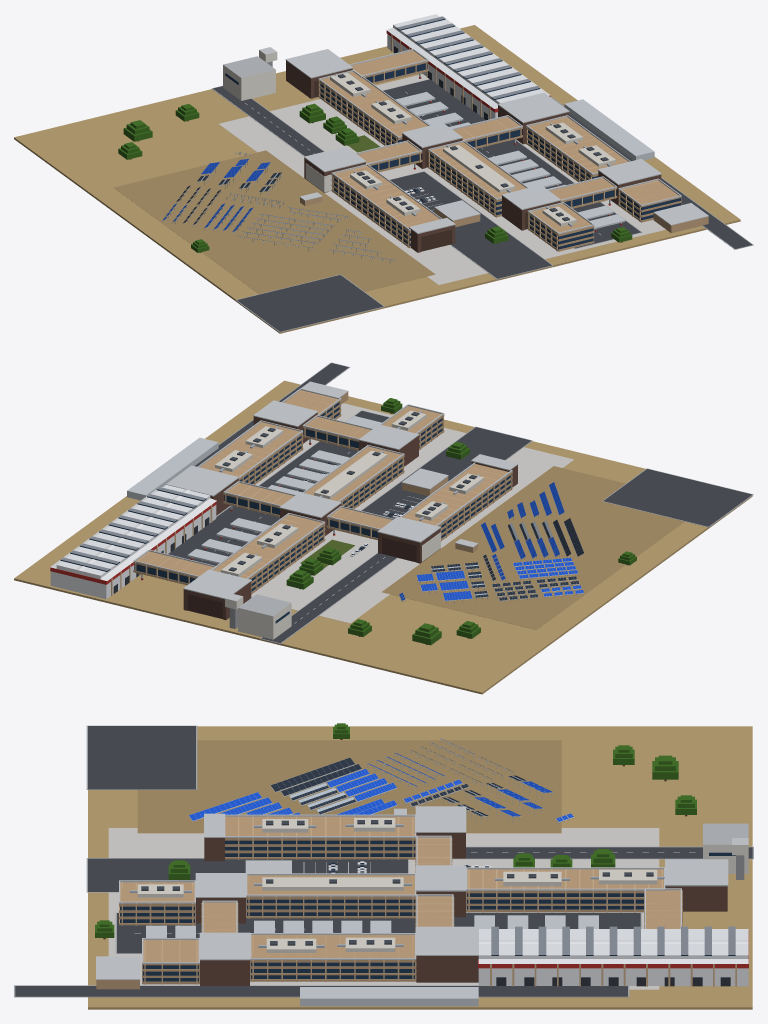
File: factory_campus_mac_preview.dae
3 renders of one model, top to bottom at view 1: azimuth 30°, elevation 25°; view 2: azimuth 150°, elevation 25°; view 3: azimuth 270°, elevation 25°, orthographic. The views are drawn at different scales.
Visible parts, largest first — view 1: mat_terrain_meadow, mat_solar_earth_pad, mat_wing_sandstone, mat_asphalt_road, mat_roof_parapet, mat_walkway_apron, mat_window_glass, mat_ind_white, mat_carport_roof, mat_wing_pilaster, mat_roof_hvac, mat_core_brick (+9 smaller); view 2: mat_terrain_meadow, mat_solar_earth_pad, mat_wing_sandstone, mat_asphalt_road, mat_roof_parapet, mat_walkway_apron, mat_ind_white, mat_window_glass, mat_carport_roof, mat_roof_hvac, mat_wing_pilaster, mat_solar_blue (+11 smaller); view 3: mat_terrain_meadow, mat_wing_sandstone, mat_solar_earth_pad, mat_asphalt_road, mat_roof_parapet, mat_ind_white, mat_window_glass, mat_walkway_apron, mat_roof_hvac, mat_carport_roof, mat_core_brick, mat_wing_pilaster (+12 smaller).
Part boxes in pixels (x1,y1,x2,y2): mat_terrain_meadow: [14, 25, 740, 333]; mat_solar_earth_pad: [114, 150, 435, 294]; mat_wing_sandstone: [300, 50, 708, 251]; mat_asphalt_road: [213, 79, 752, 331]; mat_roof_parapet: [259, 47, 708, 234]; mat_walkway_apron: [219, 74, 665, 284]; mat_window_glass: [225, 18, 680, 249]; mat_ind_white: [245, 14, 600, 234]; mat_carport_roof: [395, 92, 654, 229]; mat_wing_pilaster: [318, 34, 681, 250]; mat_roof_hvac: [330, 72, 615, 226]; mat_core_brick: [286, 60, 661, 252]; mat_terrain_meadow: [14, 380, 752, 694]; mat_solar_earth_pad: [381, 466, 684, 629]; mat_wing_sandstone: [133, 390, 512, 593]; mat_asphalt_road: [168, 363, 752, 642]; mat_roof_parapet: [133, 381, 518, 601]; mat_walkway_apron: [217, 403, 573, 623]; mat_ind_white: [50, 452, 422, 623]; mat_window_glass: [60, 402, 510, 623]; mat_carport_roof: [127, 416, 381, 563]; mat_roof_hvac: [215, 410, 483, 576]; mat_wing_pilaster: [111, 391, 512, 595]; mat_solar_blue: [399, 482, 583, 600]; mat_terrain_meadow: [88, 726, 752, 1009]; mat_wing_sandstone: [96, 816, 680, 989]; mat_solar_earth_pad: [137, 740, 561, 833]; mat_asphalt_road: [15, 726, 752, 996]; mat_roof_parapet: [96, 806, 748, 979]; mat_ind_white: [134, 852, 748, 986]; mat_window_glass: [120, 840, 735, 981]; mat_walkway_apron: [108, 828, 659, 989]; mat_roof_hvac: [137, 818, 657, 952]; mat_carport_roof: [146, 915, 598, 1006]; mat_core_brick: [196, 833, 727, 985]; mat_wing_pilaster: [121, 816, 736, 986].
Size of the model in its own units: 321 by 20.7 by 356.
